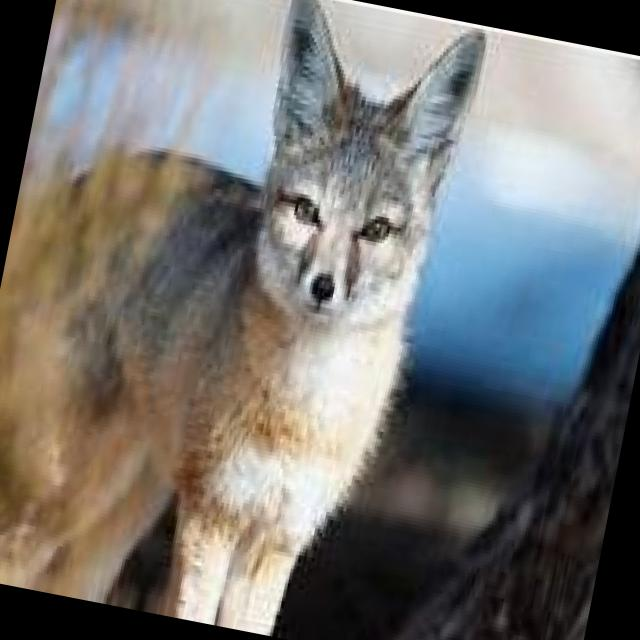Gato: (0, 0, 505, 640)
